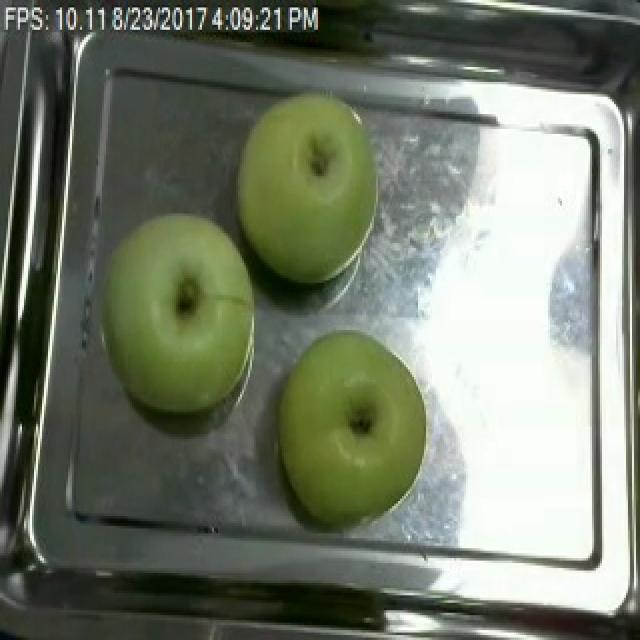50-_ripeness: (221, 81, 409, 301), (286, 321, 442, 540), (106, 217, 266, 413)
